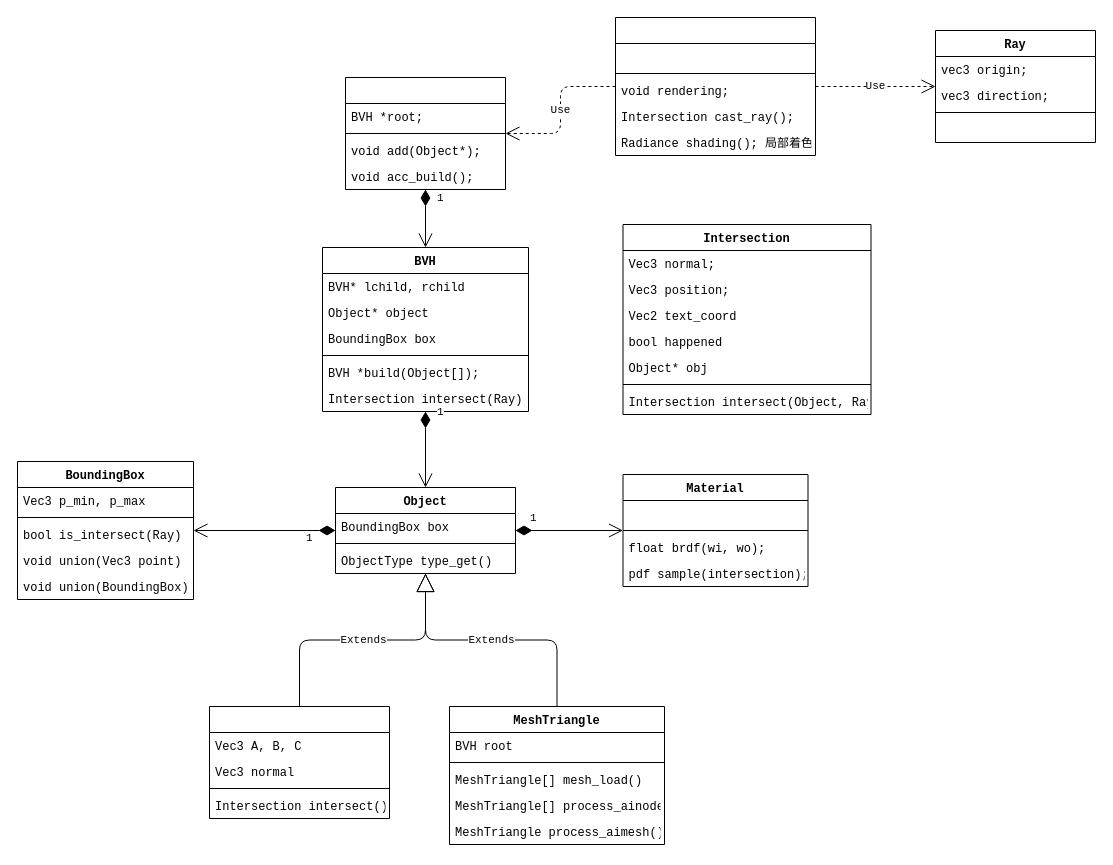
The diagram is 1113 pixels wide and 865 high, and some of its shapes have lost their labels. Here are the shapes that lost their labels. From the top down, the box of each, then its label:
(614, 16, 816, 156): RTRender
(344, 76, 506, 190): Scene
(208, 706, 390, 818): Triangle
